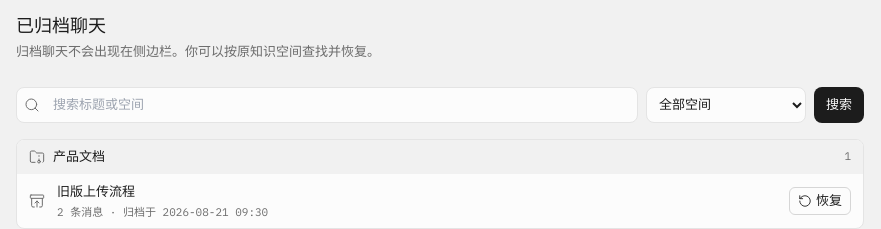
Test case: ArchivedChatsView › distinguishes no archives from no search results
(page scrolled)
Step 1. Type "不存在" into the search field with placeholder "搜索标题或空间" → (327, 105), box 16,87 -> 638,123
(page scrolled)
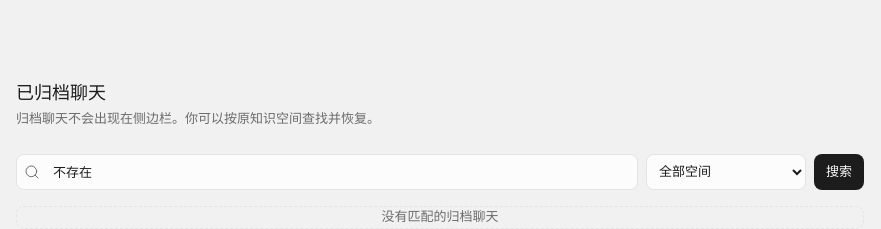
Check: the text "没有匹配的归档聊天" is shown, box 16,206 -> 864,228
